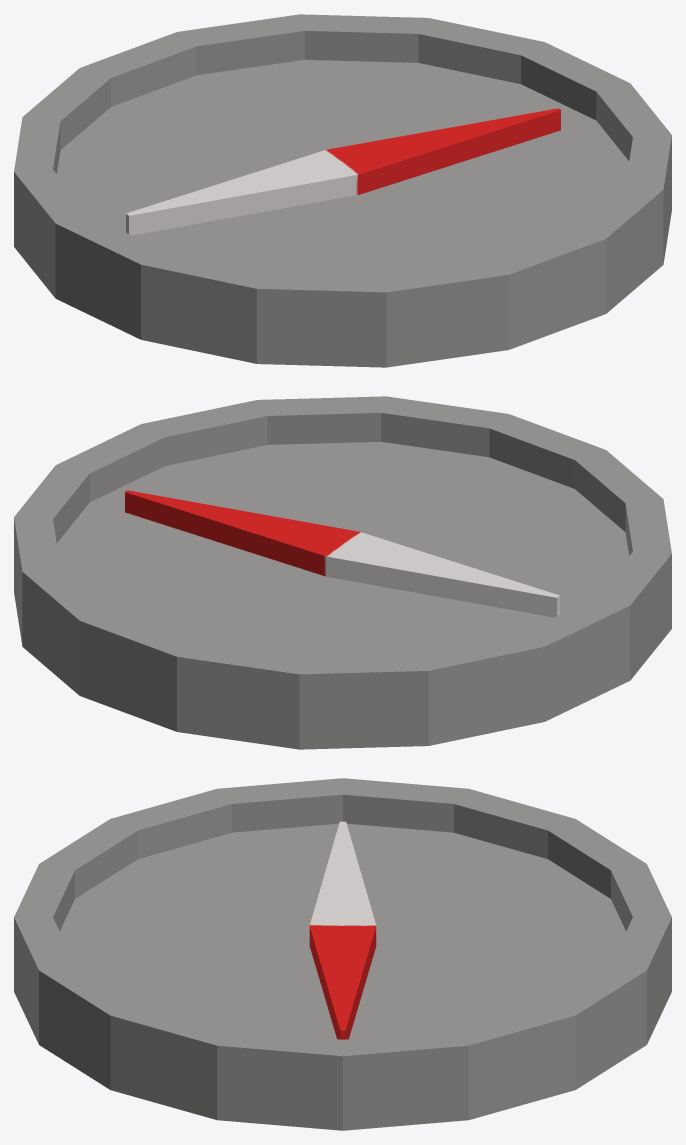
Rendered from Compass.fbx.
3 renders of one model, top to bottom at view 1: azimuth 30°, elevation 25°; view 2: azimuth 150°, elevation 25°; view 3: azimuth 270°, elevation 25°, orthographic.
Visible parts, largest first — view 1: Cylinder; view 2: Cylinder; view 3: Cylinder.
Part boxes in pixels (bbox=[...]): Cylinder: bbox=[14, 14, 671, 367]; Cylinder: bbox=[14, 396, 671, 749]; Cylinder: bbox=[14, 778, 671, 1130].
Size of the model in its own units: 200 by 25 by 200.
